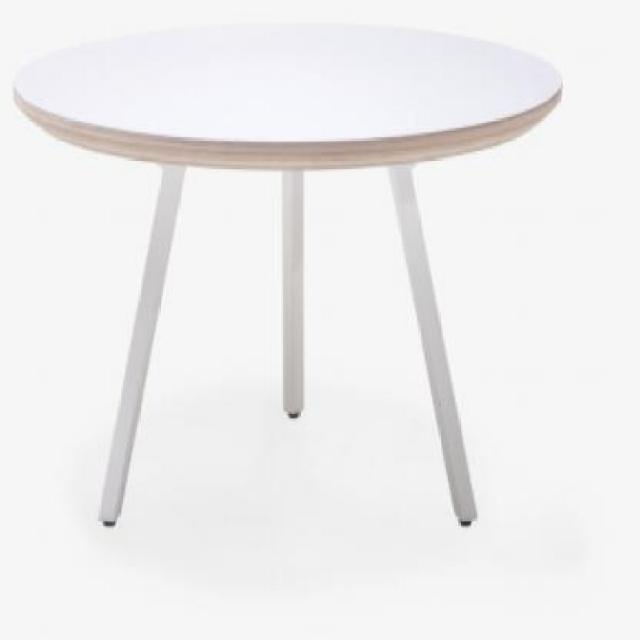table: (12, 26, 565, 528)
